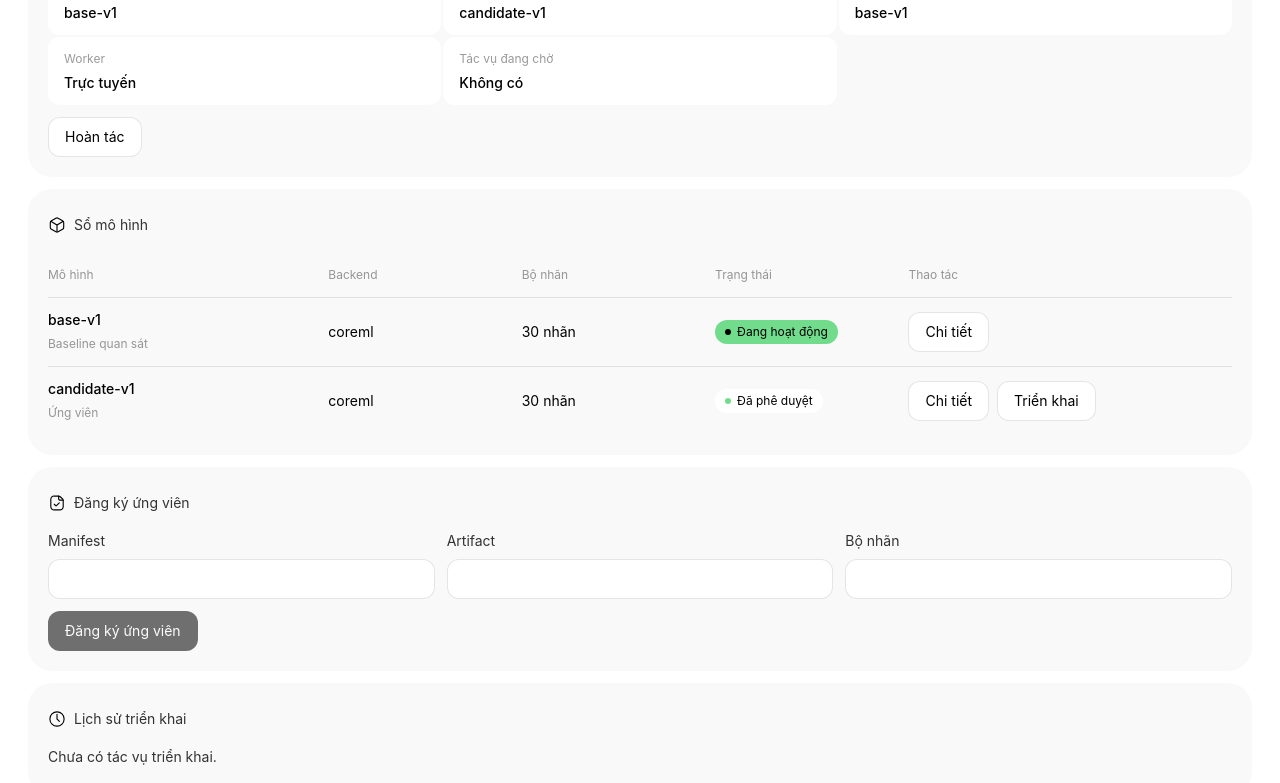
Test case: WorkspaceModels › renders registry, active/previous pointers and actual gate details separately from Dev/Test
(page scrolled)
Expected: the column heading "candidate-v1" is shown, 48,380 -> 135,397
Click the button with aria-label "Chi tiết candidate-v1" at (949, 401), box 908,381 -> 989,421
(page scrolled)
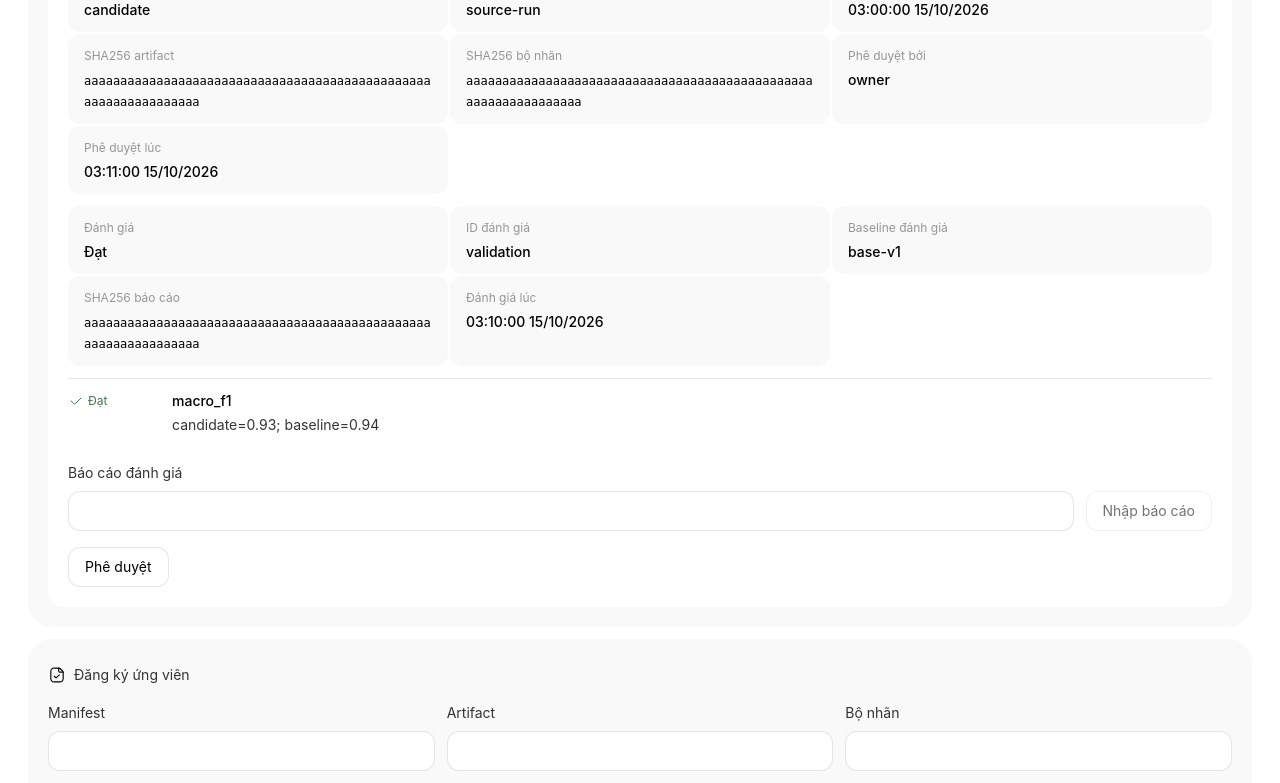
Now the text "candidate=0.93; baseline=0.94" is shown, box 172,415 -> 379,435
Now the text "macro_f1" is shown, box 172,392 -> 232,409
